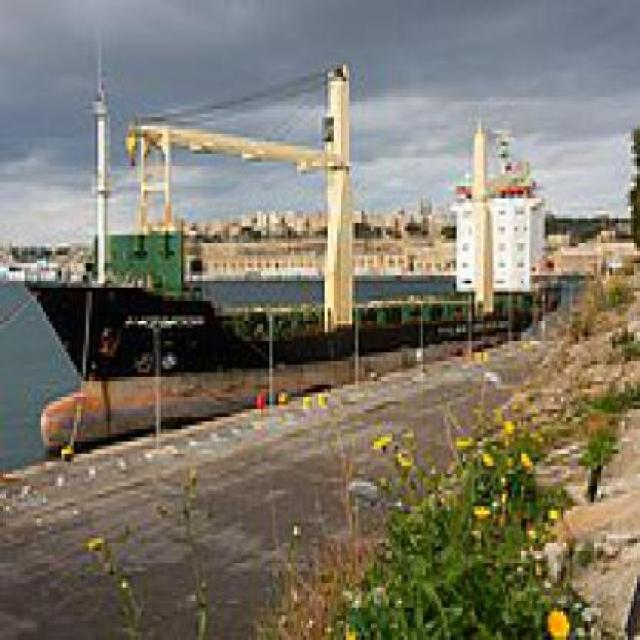container: (13, 25, 571, 459)
